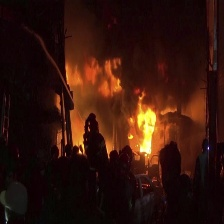fire: (127, 100, 159, 159)
smoke: (95, 2, 208, 112)
